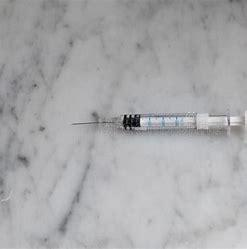Syringe: (61, 104, 247, 141)
